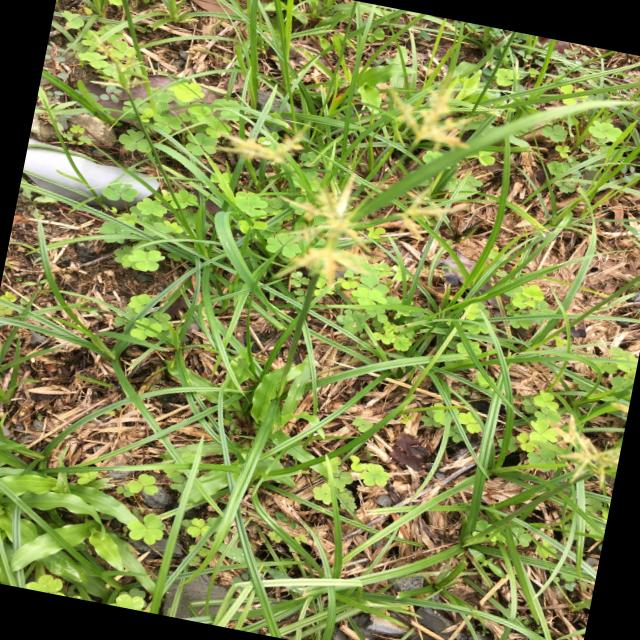cyperus: (195, 34, 486, 310)
